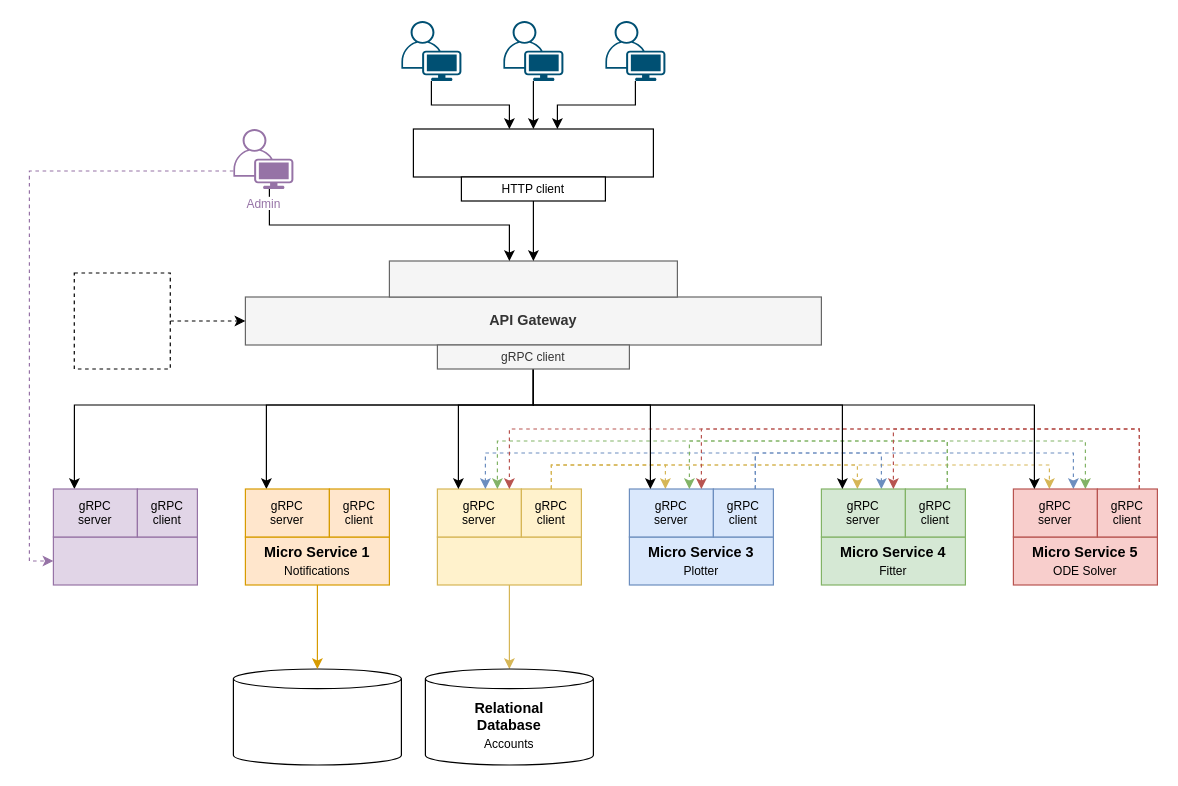
Some shapes in this 1178 by 786 pixel diagram are drawn without their labels. The box of each missing label's shape, as (x1, y1, x2, y2) in pixels:
Application: (412, 128, 653, 177)
Control Panel: (73, 272, 170, 369)
Micro Service 0 Admin Manager: (52, 536, 197, 585)
Micro Service 2 User: (436, 536, 581, 585)
Non-Relational Database Notifications: (232, 668, 401, 765)
Oauth2 + JWT Validation: (388, 260, 677, 297)
